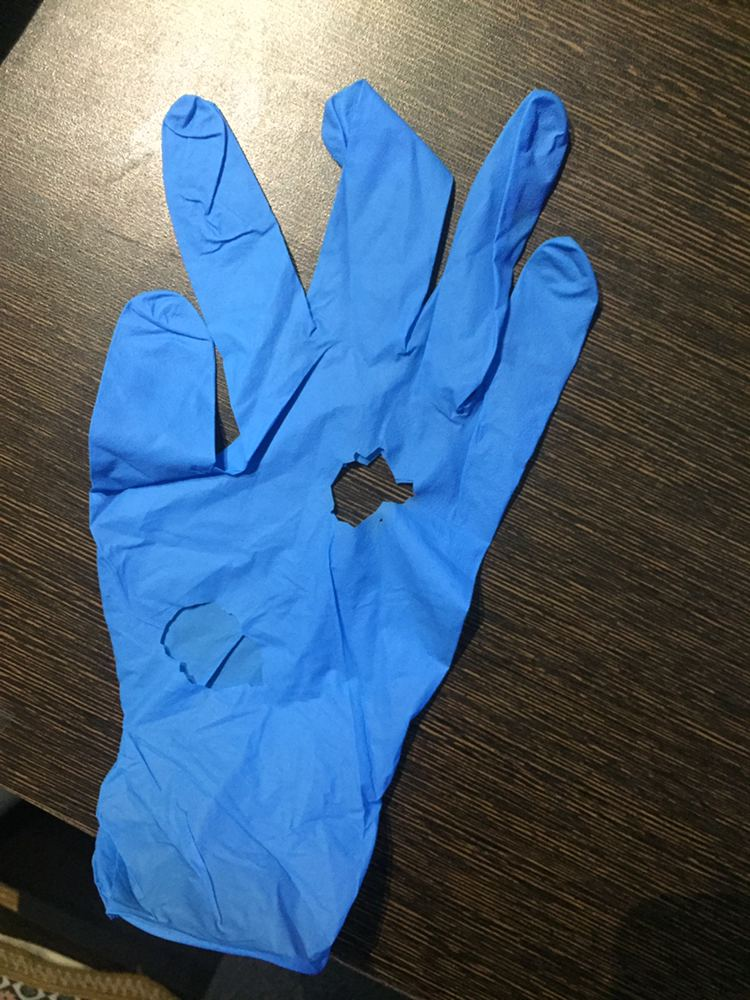defected: (82, 69, 592, 901)
